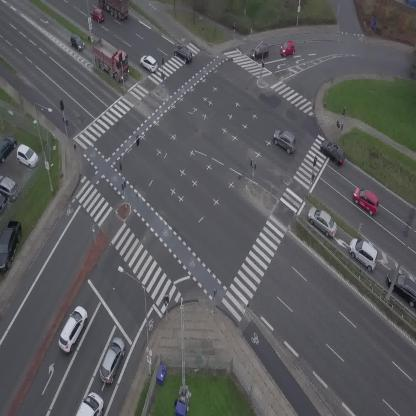car: (53, 303, 92, 354), (96, 335, 130, 385), (343, 234, 384, 272), (303, 203, 343, 240), (349, 183, 385, 217), (317, 135, 349, 167), (269, 125, 301, 155), (138, 52, 161, 74), (172, 43, 195, 64), (65, 32, 86, 54), (88, 6, 107, 25), (278, 40, 297, 57), (249, 44, 269, 59)
lorry: (83, 33, 138, 84), (75, 392, 103, 416), (97, 0, 129, 19)
